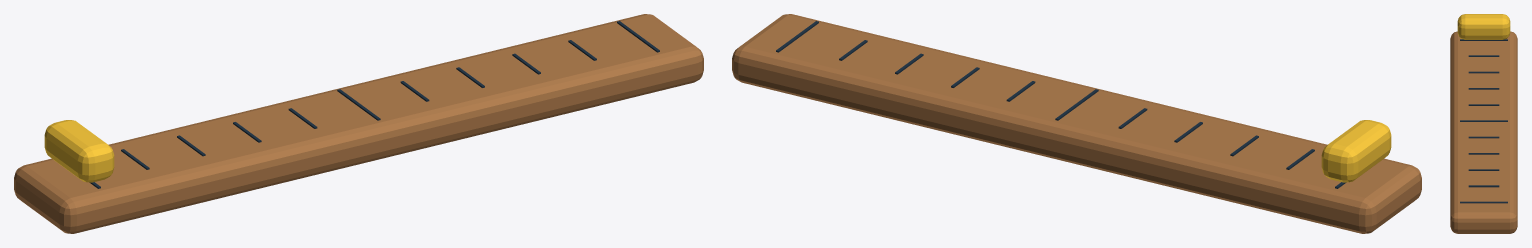
The model's file is CriterionRail.fbx.
3 renders of one model, left to right at view 1: azimuth 30°, elevation 25°; view 2: azimuth 150°, elevation 25°; view 3: azimuth 270°, elevation 25°, orthographic. The views are drawn at different scales.
Visible parts, largest first — view 1: Wood rail, Movable mark token; view 2: Wood rail, Movable mark token; view 3: Wood rail, Movable mark token, Scale tick.010, Scale tick.005, Scale tick.009, Scale tick.002, Scale tick.006, Scale tick.001, Scale tick.003, Scale tick.004, Scale tick.007, Scale tick.008 (+1 smaller).
Boxes of the visible parts, bbox=[...] form: Wood rail: bbox=[14, 14, 703, 233]; Movable mark token: bbox=[44, 120, 114, 182]; Wood rail: bbox=[732, 14, 1421, 233]; Movable mark token: bbox=[1321, 120, 1391, 182]; Wood rail: bbox=[1450, 31, 1517, 233]; Movable mark token: bbox=[1457, 14, 1510, 39]; Scale tick.010: bbox=[1460, 201, 1507, 203]; Scale tick.005: bbox=[1460, 120, 1507, 121]; Scale tick.009: bbox=[1468, 185, 1499, 187]; Scale tick.002: bbox=[1468, 71, 1499, 73]; Scale tick.006: bbox=[1468, 136, 1499, 138]; Scale tick.001: bbox=[1468, 55, 1499, 56]; Scale tick.003: bbox=[1468, 88, 1499, 89]; Scale tick.004: bbox=[1468, 104, 1499, 105]; Scale tick.007: bbox=[1468, 153, 1499, 154]; Scale tick.008: bbox=[1468, 169, 1499, 170].
Size of the model in its own units: 0.46 by 0.052 by 0.07.
